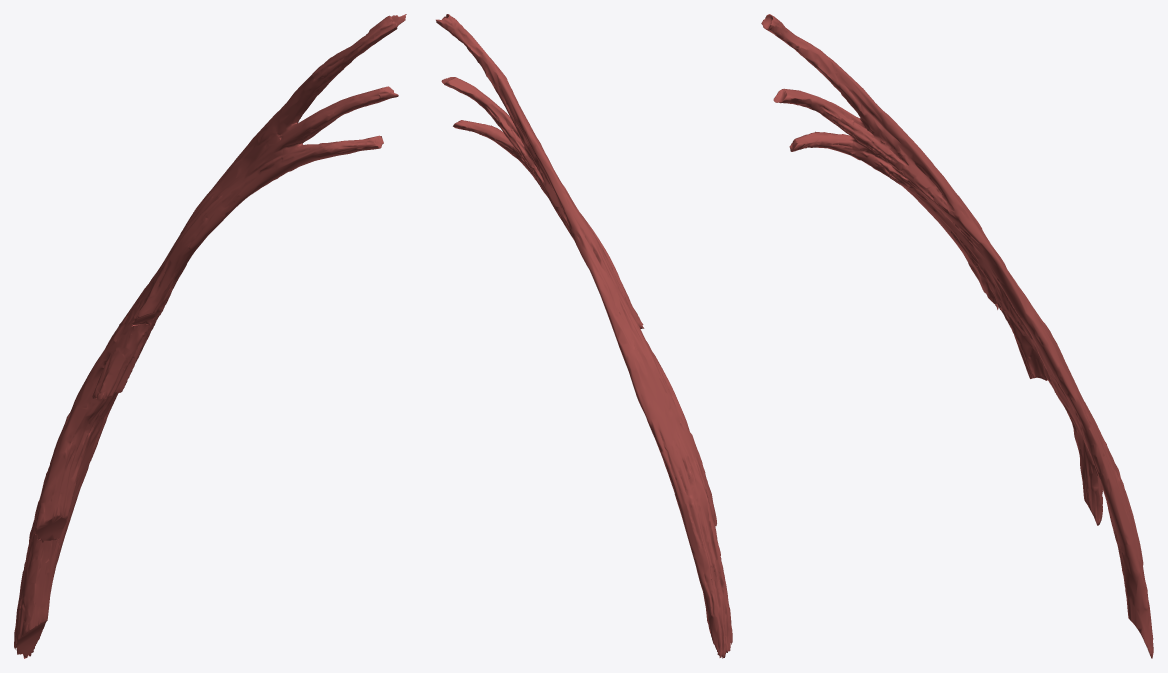
File: FMA22744.glb
The picture shows the model from 3 angles, left to right: view 1: azimuth 30°, elevation 25°; view 2: azimuth 210°, elevation 25°; view 3: azimuth 270°, elevation 25°; orthographic projection. The views are drawn at different scales.
Visible parts, largest first — view 1: FMA22744; view 2: FMA22744; view 3: FMA22744.
Part boxes in pixels (x1=…): FMA22744: x1=14, y1=14, x2=406, y2=658; FMA22744: x1=436, y1=14, x2=732, y2=658; FMA22744: x1=761, y1=14, x2=1153, y2=658.
Size of the model in its own units: 0.0489 by 0.1709 by 0.0842.
